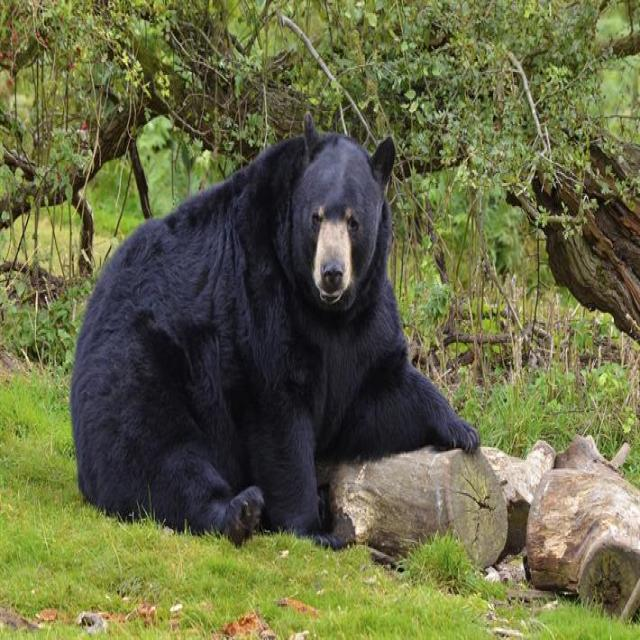Bear: (69, 118, 482, 551)
